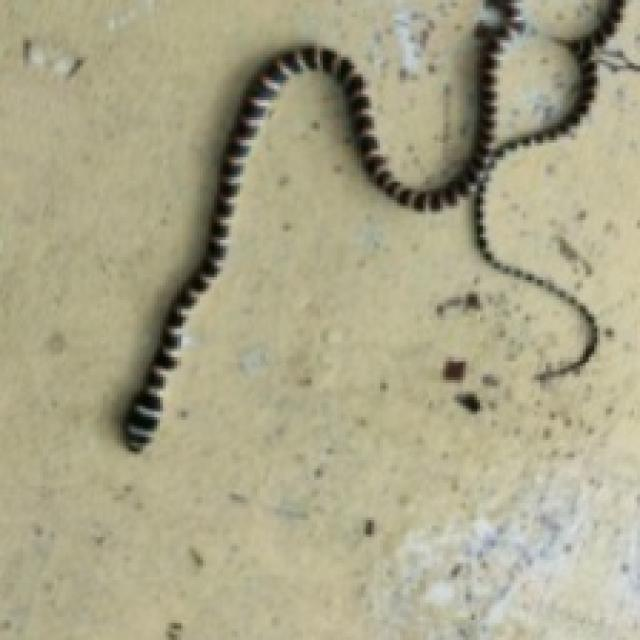paradise tree snake: (123, 0, 623, 449)
